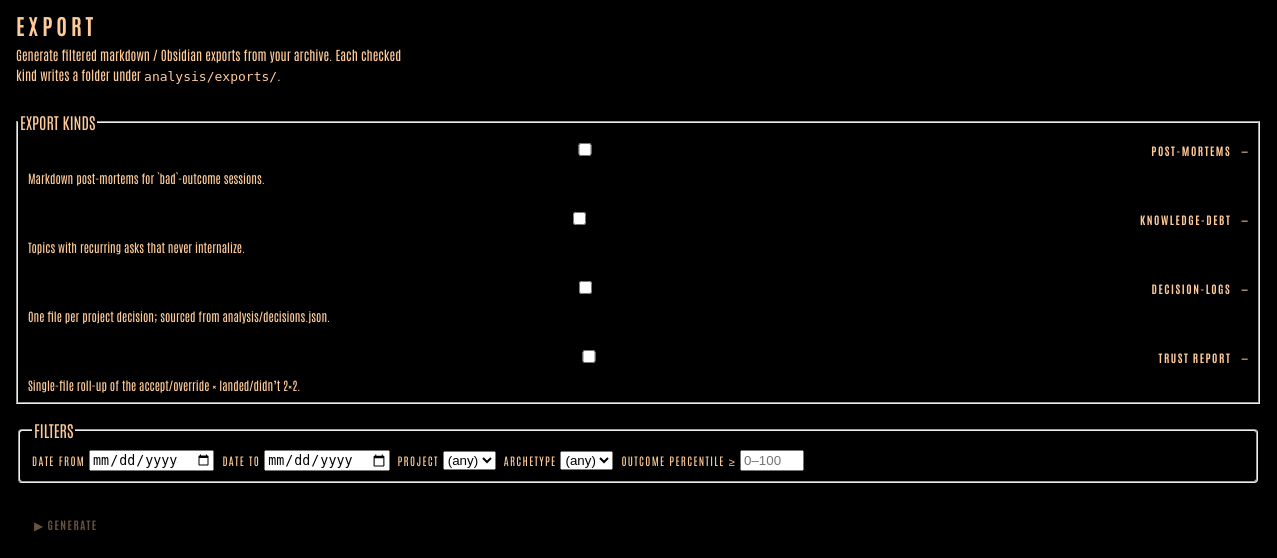
Test: ExportMode › disables the GENERATE button until at least one kind is selected
Expected: the button with test id "generate-btn" is disabled, [16,509,116,541]
Click the checkbox with test id "kind-post-mortem".
click(585, 150)  # box [32,143,1138,156]
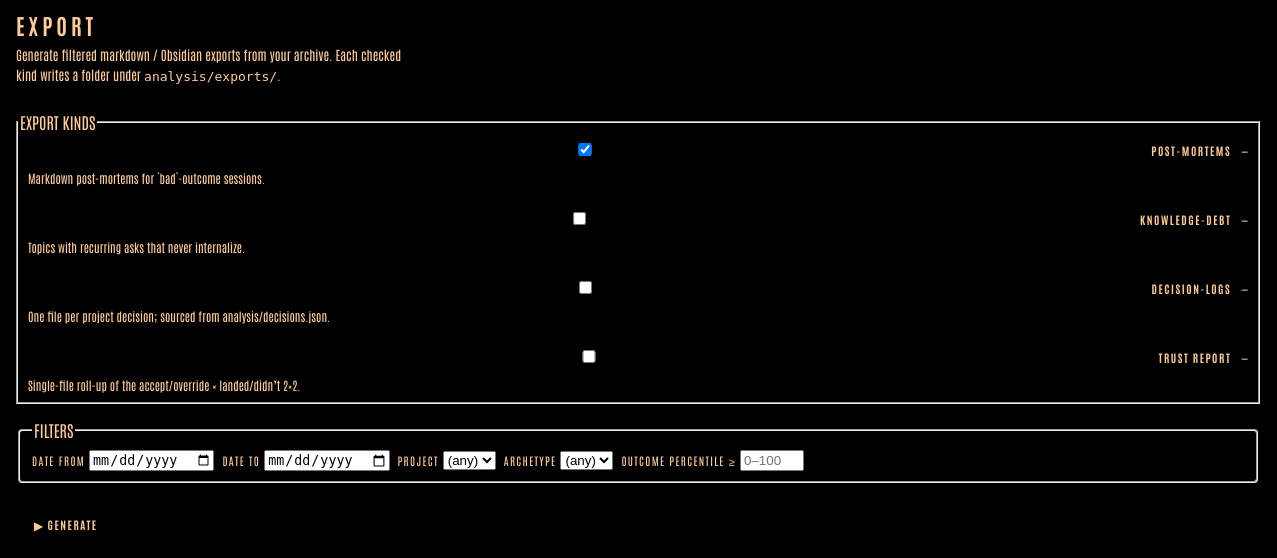
Result: the button with test id "generate-btn" is enabled at [16,509,116,541]
